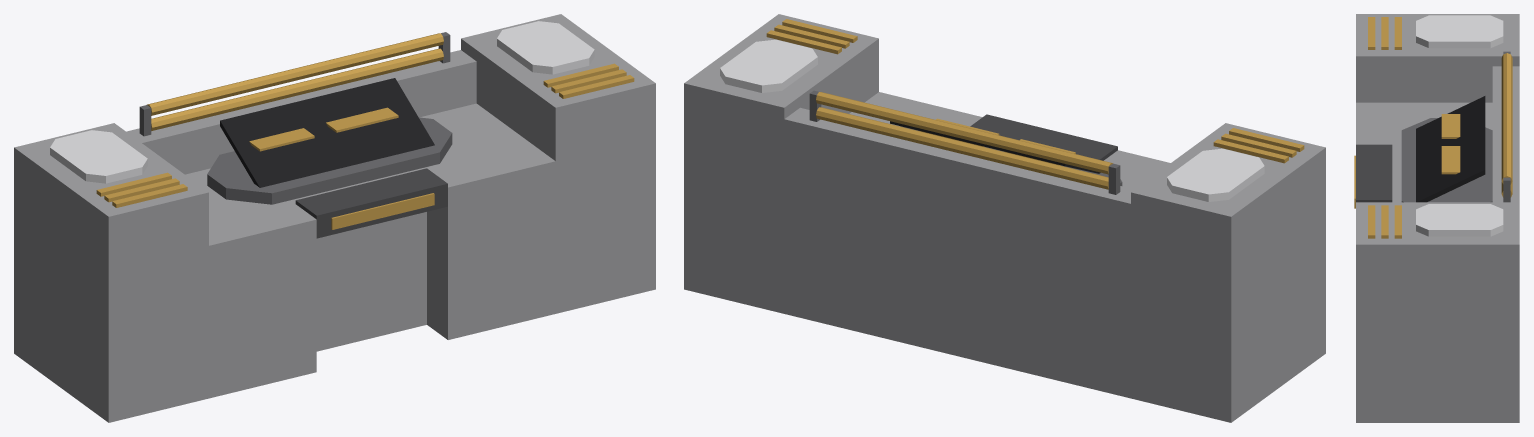
File: vge_engineering_console.obj
The picture shows the model from 3 angles, left to right: view 1: azimuth 30°, elevation 25°; view 2: azimuth 150°, elevation 25°; view 3: azimuth 270°, elevation 25°; orthographic projection. The views are drawn at different scales.
Visible parts, largest first — view 1: vge_engineering_console_3, vge_engineering_console_8, vge_engineering_console_2, vge_engineering_console_1, vge_engineering_console_0, vge_engineering_console_19, vge_engineering_console_13, vge_engineering_console_18, vge_engineering_console_22, vge_engineering_console_15, vge_engineering_console_14, vge_engineering_console_9 (+10 smaller); view 2: vge_engineering_console_0, vge_engineering_console_3, vge_engineering_console_8, vge_engineering_console_13, vge_engineering_console_15, vge_engineering_console_14, vge_engineering_console_4, vge_engineering_console_9, vge_engineering_console_22, vge_engineering_console_2, vge_engineering_console_1, vge_engineering_console_19 (+6 smaller); view 3: vge_engineering_console_8, vge_engineering_console_3, vge_engineering_console_19, vge_engineering_console_4, vge_engineering_console_9, vge_engineering_console_18, vge_engineering_console_13, vge_engineering_console_0, vge_engineering_console_22, vge_engineering_console_1, vge_engineering_console_15, vge_engineering_console_21 (+8 smaller).
Part boxes in pixels (x1,y1,x2,y2): vge_engineering_console_3: (14, 123, 208, 422); vge_engineering_console_8: (461, 14, 655, 313); vge_engineering_console_2: (427, 146, 555, 339); vge_engineering_console_1: (209, 204, 316, 398); vge_engineering_console_0: (185, 103, 534, 351); vge_engineering_console_19: (220, 78, 434, 187); vge_engineering_console_13: (126, 50, 476, 174); vge_engineering_console_18: (207, 117, 452, 204); vge_engineering_console_22: (295, 168, 447, 238); vge_engineering_console_15: (147, 33, 443, 115); vge_engineering_console_14: (151, 48, 443, 130); vge_engineering_console_9: (497, 21, 594, 74); vge_engineering_console_0: (784, 112, 1149, 398); vge_engineering_console_3: (1131, 123, 1325, 422); vge_engineering_console_8: (684, 14, 878, 313); vge_engineering_console_13: (784, 107, 1134, 245); vge_engineering_console_15: (816, 92, 1112, 174); vge_engineering_console_14: (816, 107, 1108, 189); vge_engineering_console_4: (1167, 148, 1264, 201); vge_engineering_console_9: (720, 39, 817, 92); vge_engineering_console_22: (970, 114, 1117, 160); vge_engineering_console_2: (865, 92, 982, 126); vge_engineering_console_1: (1104, 150, 1170, 178); vge_engineering_console_19: (890, 121, 1100, 173); vge_engineering_console_8: (1356, 202, 1519, 422); vge_engineering_console_3: (1356, 14, 1519, 102); vge_engineering_console_19: (1416, 96, 1485, 202); vge_engineering_console_4: (1416, 15, 1503, 48); vge_engineering_console_9: (1416, 204, 1503, 236); vge_engineering_console_18: (1401, 118, 1492, 202); vge_engineering_console_13: (1492, 66, 1519, 202); vge_engineering_console_0: (1392, 102, 1492, 202); vge_engineering_console_22: (1356, 144, 1392, 202); vge_engineering_console_1: (1356, 102, 1392, 144); vge_engineering_console_15: (1501, 53, 1512, 184); vge_engineering_console_21: (1441, 146, 1460, 174).
Size of the model in its own units: 3 by 1.17 by 0.91.
